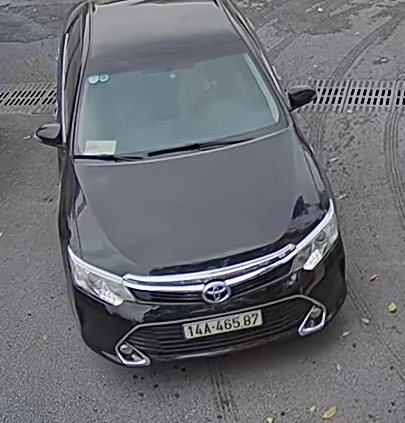vehicle plate: (177, 310, 269, 345)
